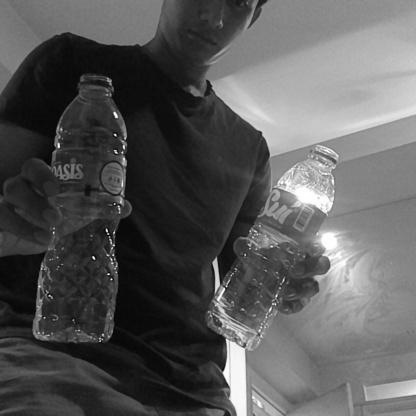plastic_bottles: (207, 143, 338, 351), (34, 72, 126, 342)
